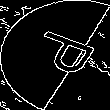P_SE: (13, 27, 97, 83)
